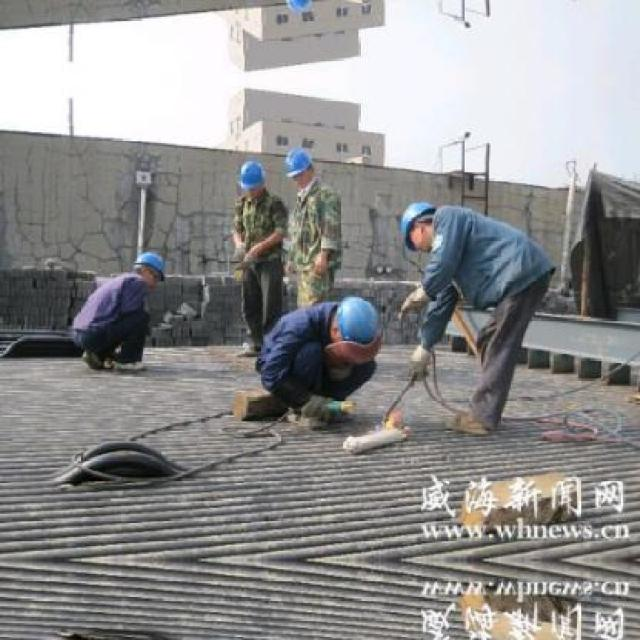helmet: (328, 294, 383, 358), (397, 194, 440, 254), (283, 144, 317, 190), (235, 156, 267, 204), (130, 249, 168, 286), (283, 0, 319, 17)
